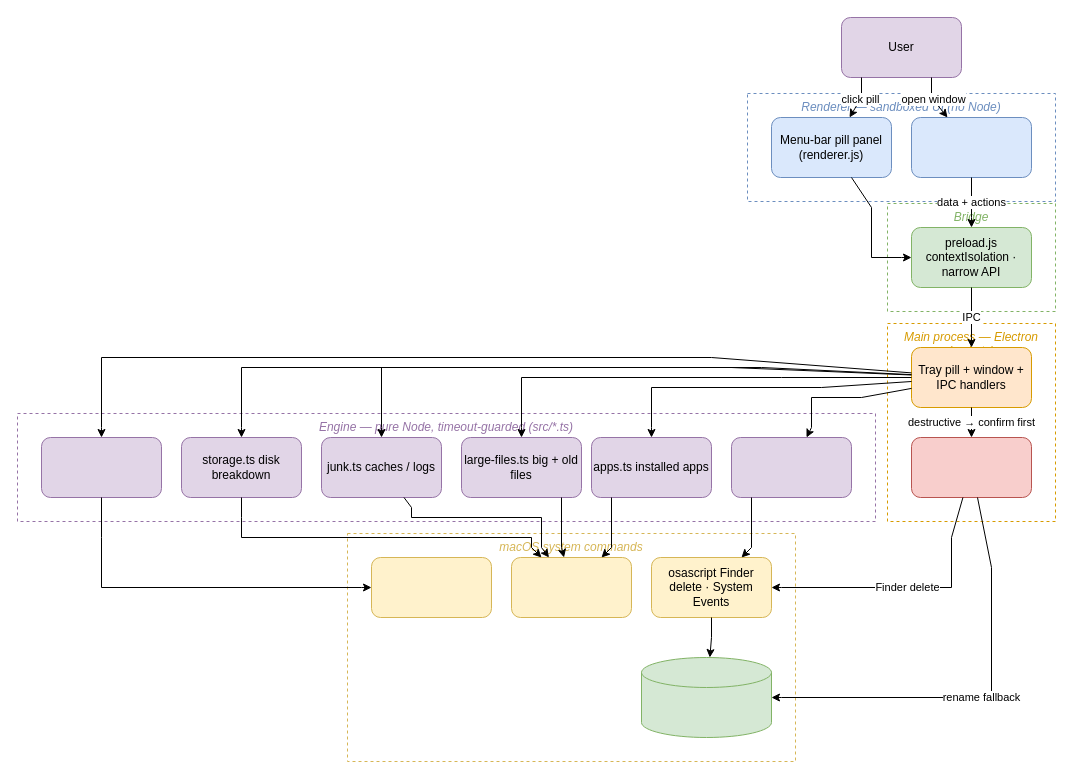
Image size: 1073x779. Some labels were removed from this diagram. Here are the shapes that lost their labels. From the top down, the centre of each, then its label:
At point (971, 147): "Full window — 7 views (window-renderer.js)".
At point (101, 467): "ram.ts memory (live 5s poll)".
At point (791, 467): "login-items.ts startup items".
At point (971, 467): "trashHelper confirm + Trash-only + allowlist".
At point (431, 587): "vm_stat · ps".
At point (571, 587): "df · du · find · mdls system_profiler".
At point (706, 697): "~/.Trash (recoverable)".
